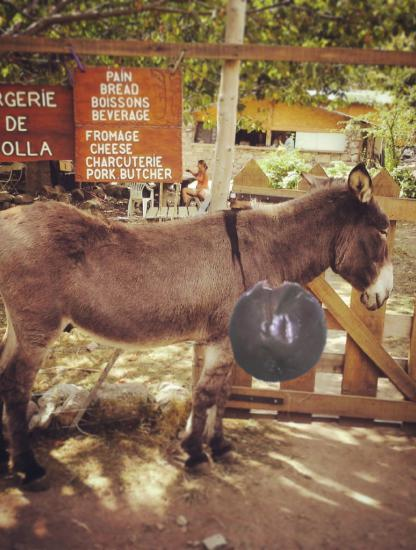Passion: (225, 276, 332, 383)
